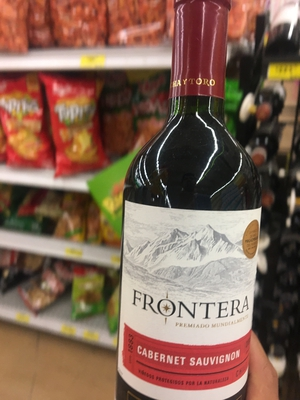frontera cabernet sauvignon: (110, 8, 274, 400)
